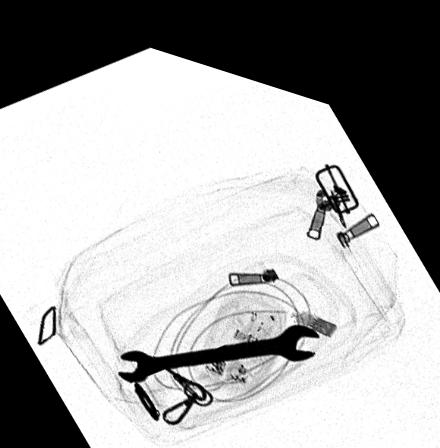Wrench: (113, 303, 320, 375)
